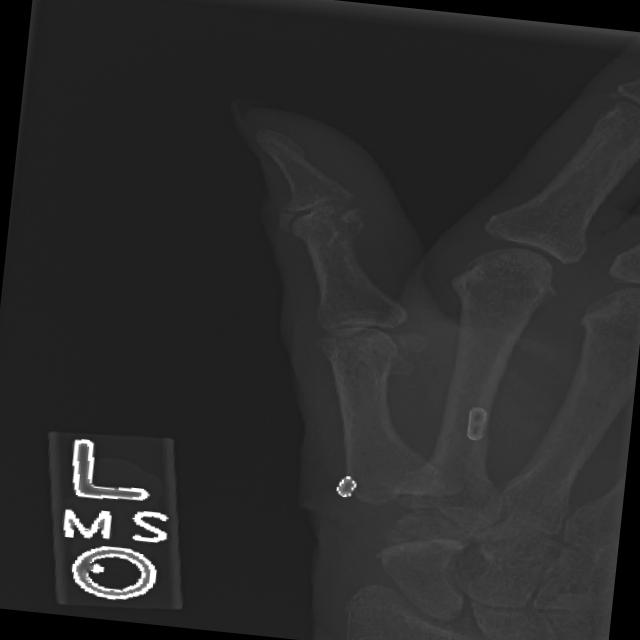fingers positive: (266, 194, 399, 288)
